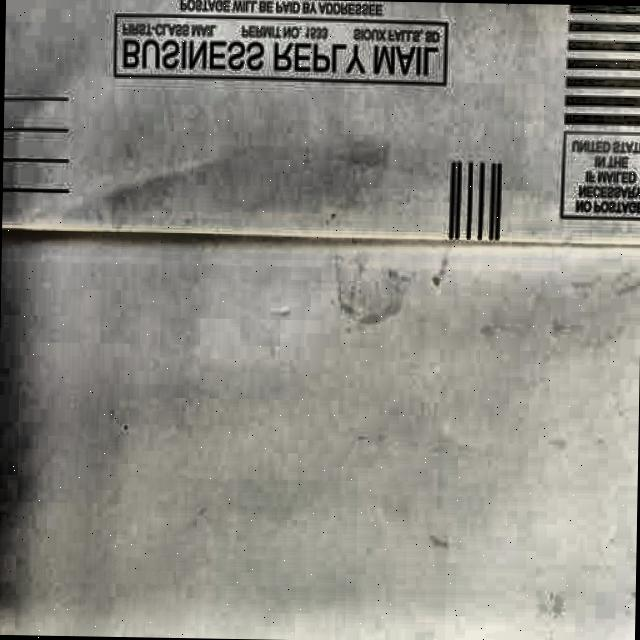paper: (1, 0, 640, 255)
